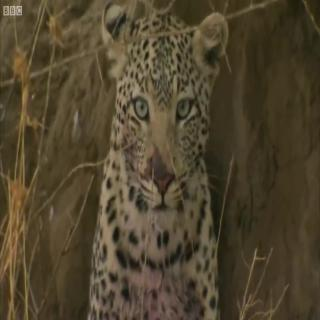Leopard: (84, 0, 238, 314)
